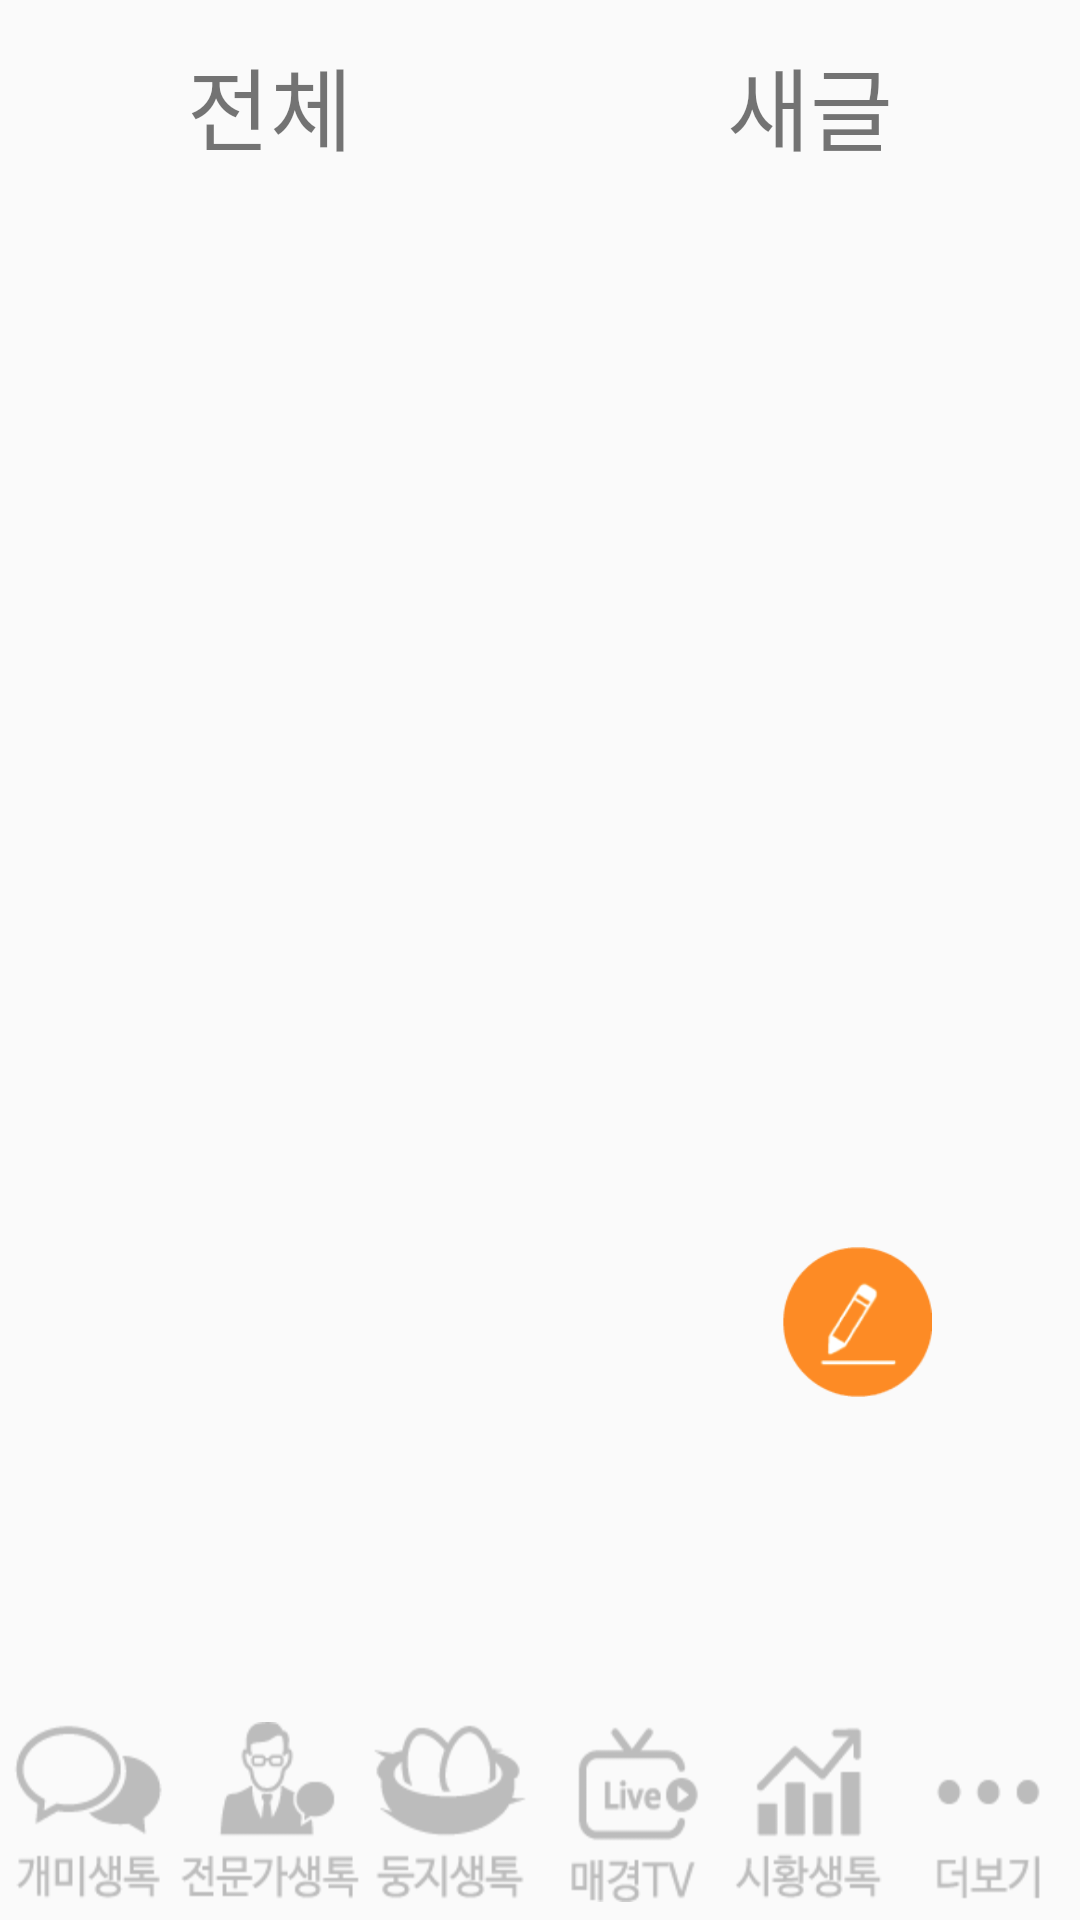

Named icons in this screenshot (1080*1920) and their centers, (x=x, y=y):
write: (x=857, y=1322)
